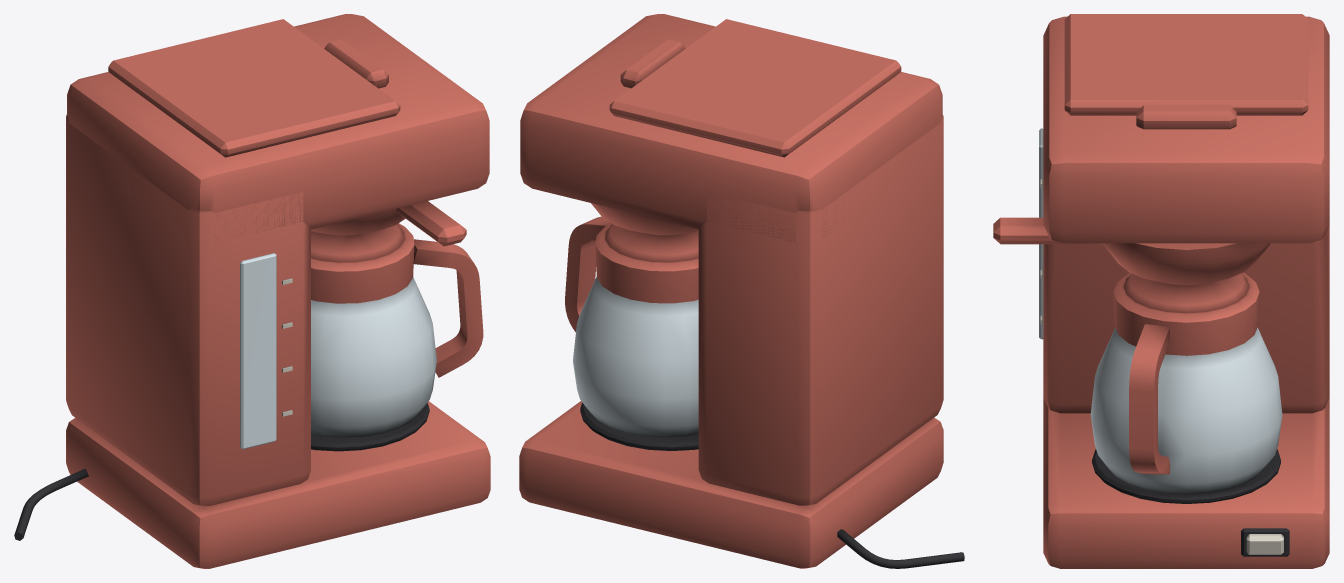
File: junk_coffee.glb
3 views of the same model, side by side, from view 1: azimuth 30°, elevation 25°; view 2: azimuth 150°, elevation 25°; view 3: azimuth 270°, elevation 25° (orthographic). The views are drawn at different scales.
Visible parts, largest first — view 1: PART; view 2: PART; view 3: PART.
Part boxes in pixels (bbox=[...]): PART: bbox=[14, 14, 490, 568]; PART: bbox=[519, 14, 964, 568]; PART: bbox=[993, 14, 1329, 568].
Size of the model in its own units: 0.3596 by 0.332 by 0.235.
